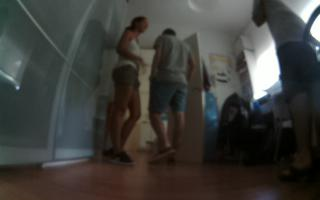person: (246, 1, 320, 186), (145, 26, 199, 168), (105, 14, 154, 169)
